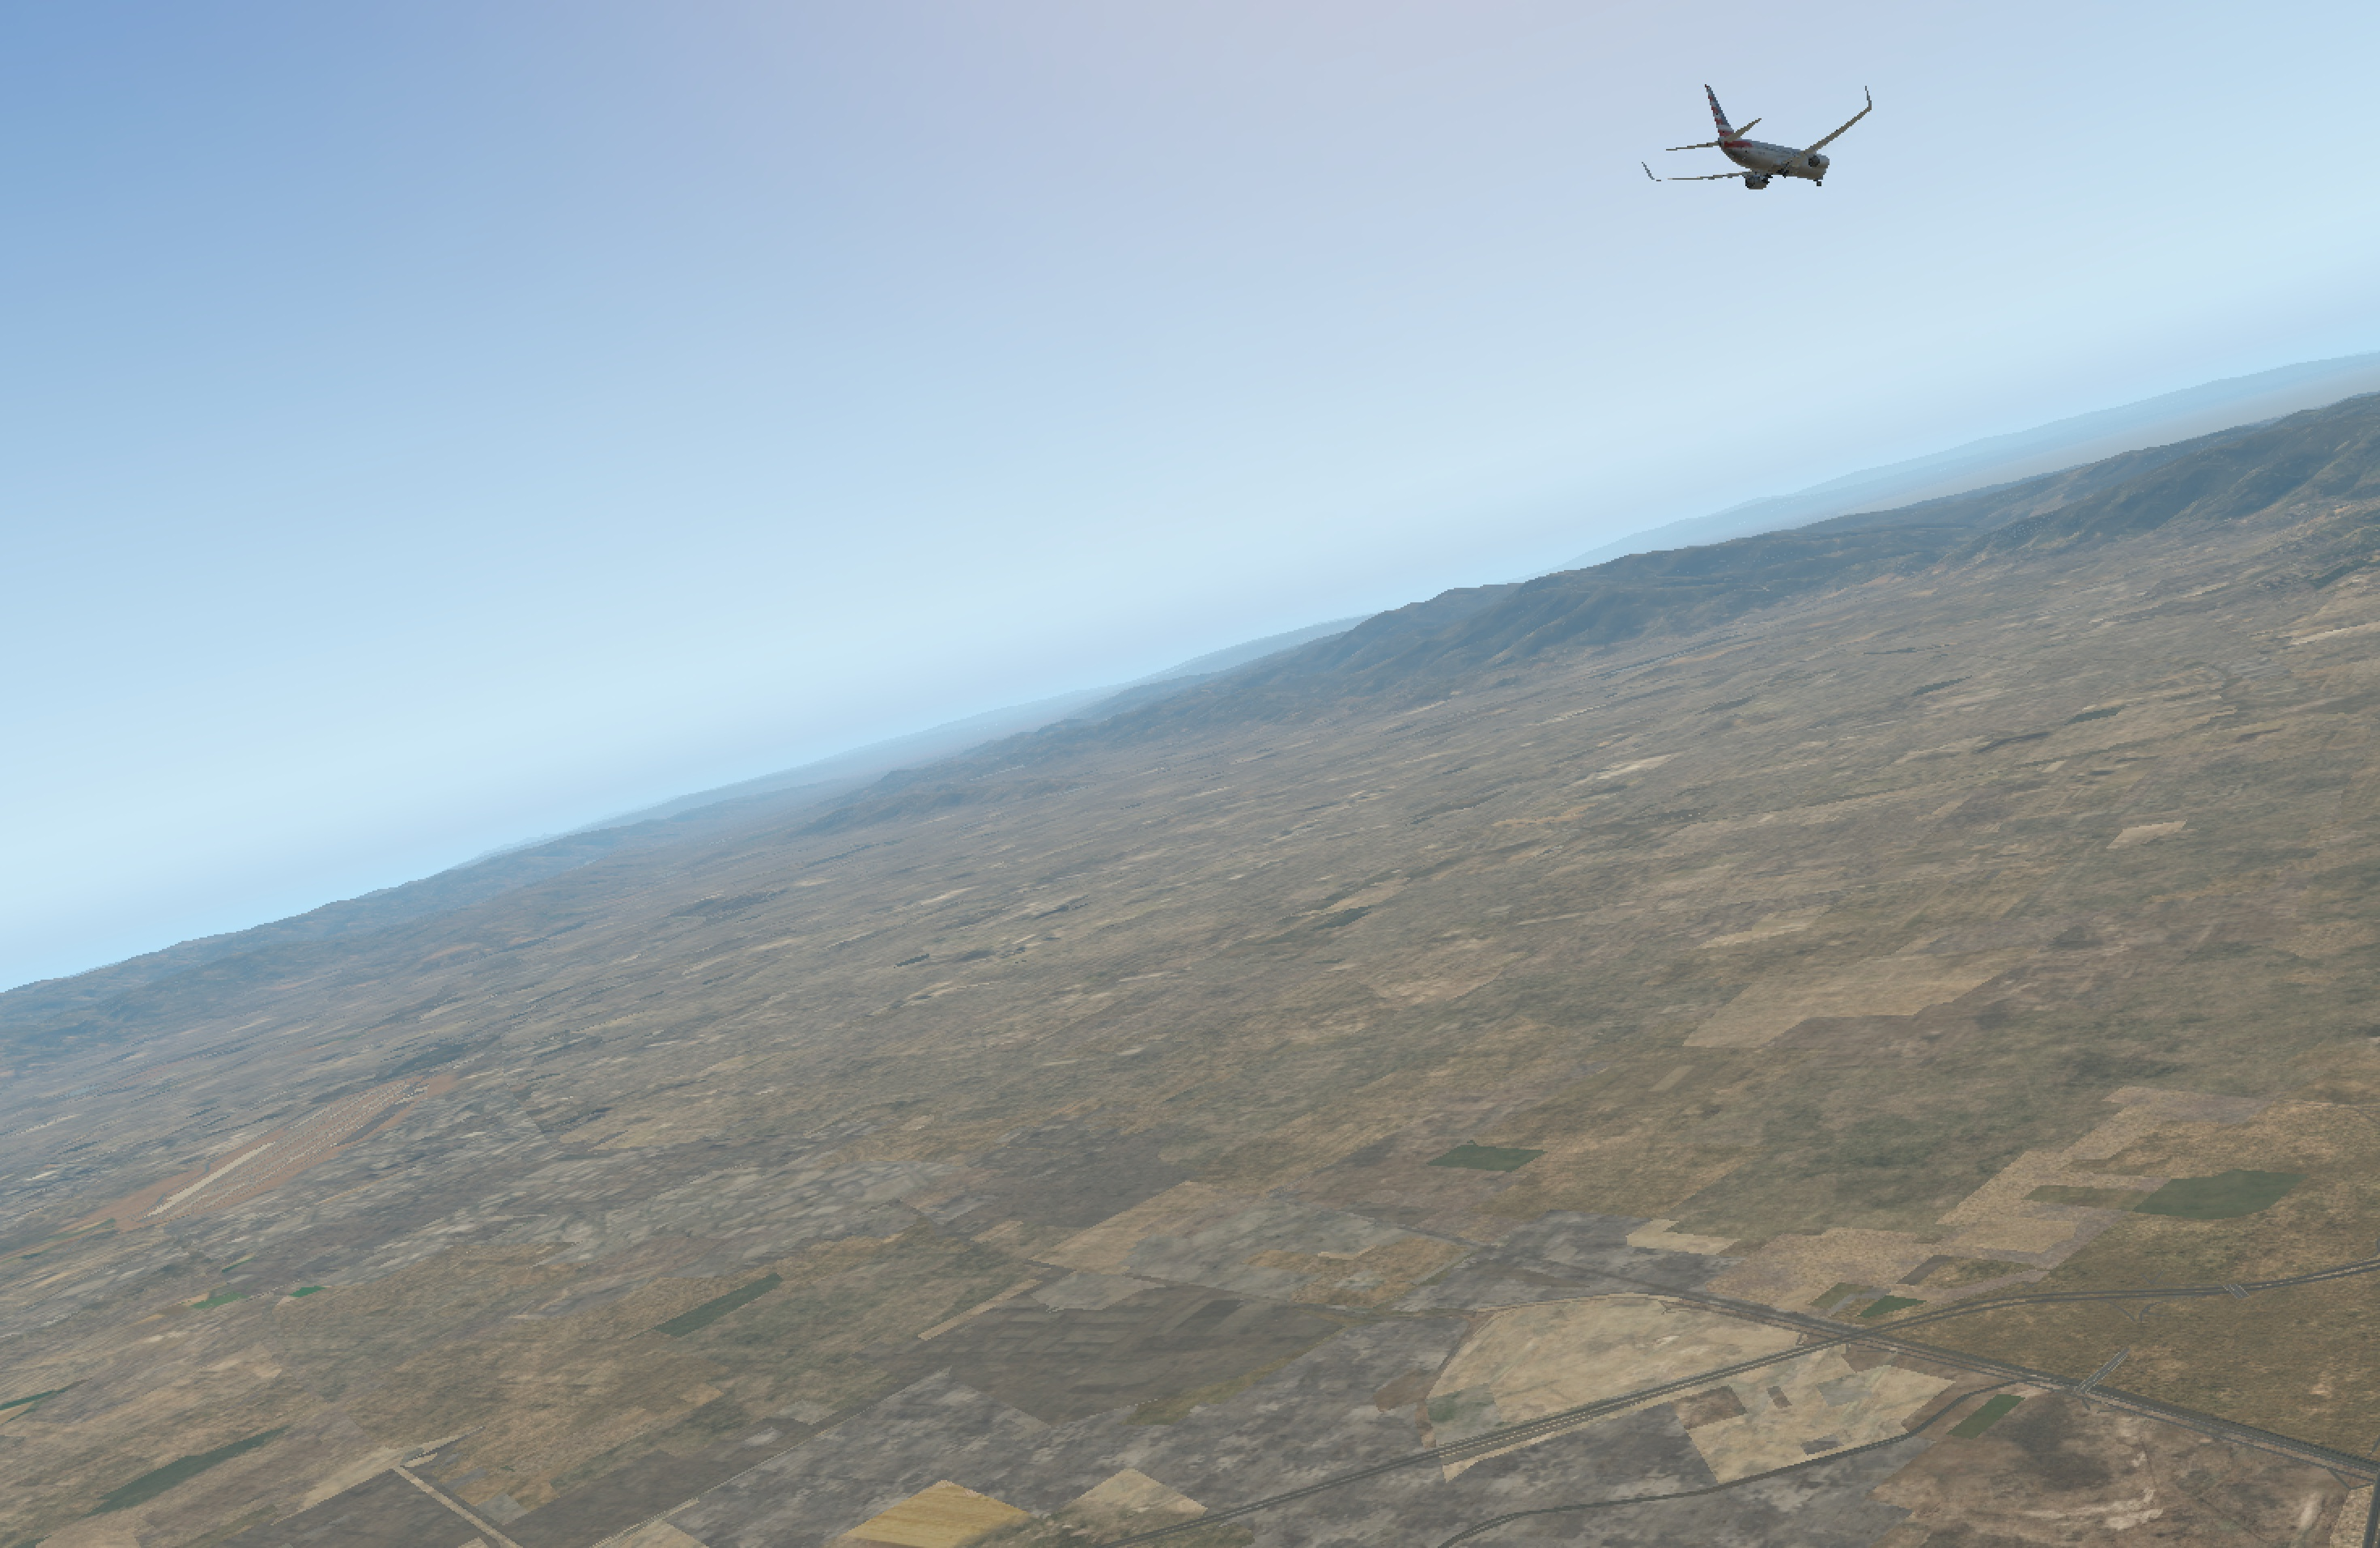aircraft: (1655, 118, 1899, 210)
